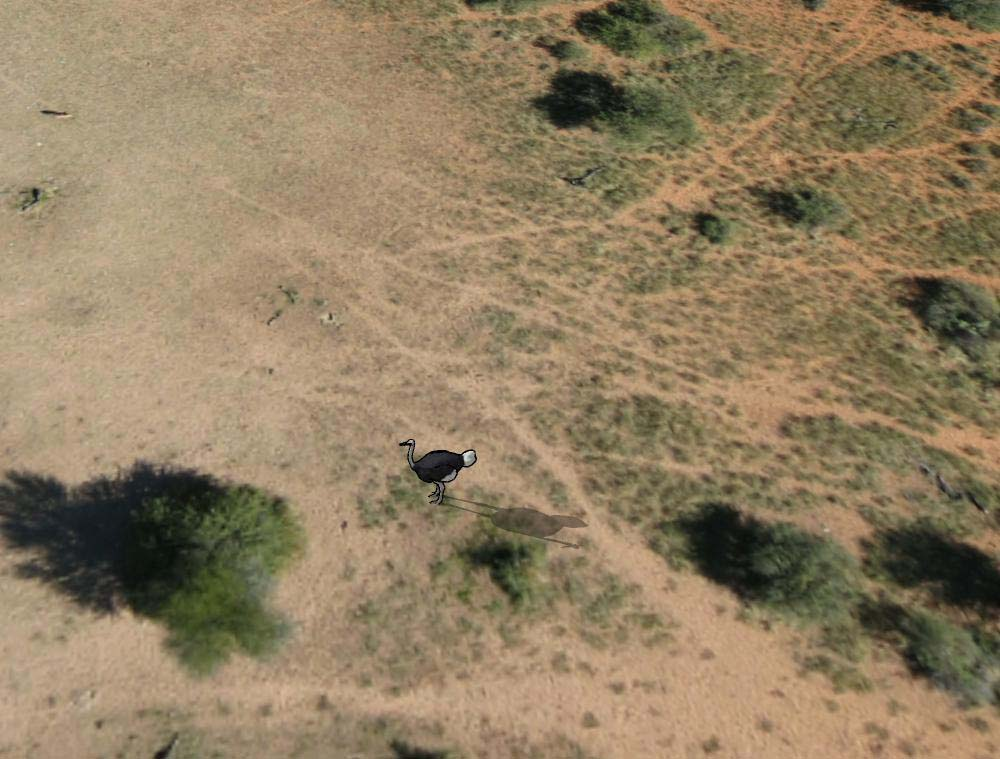ostrich: (394, 434, 481, 511)
